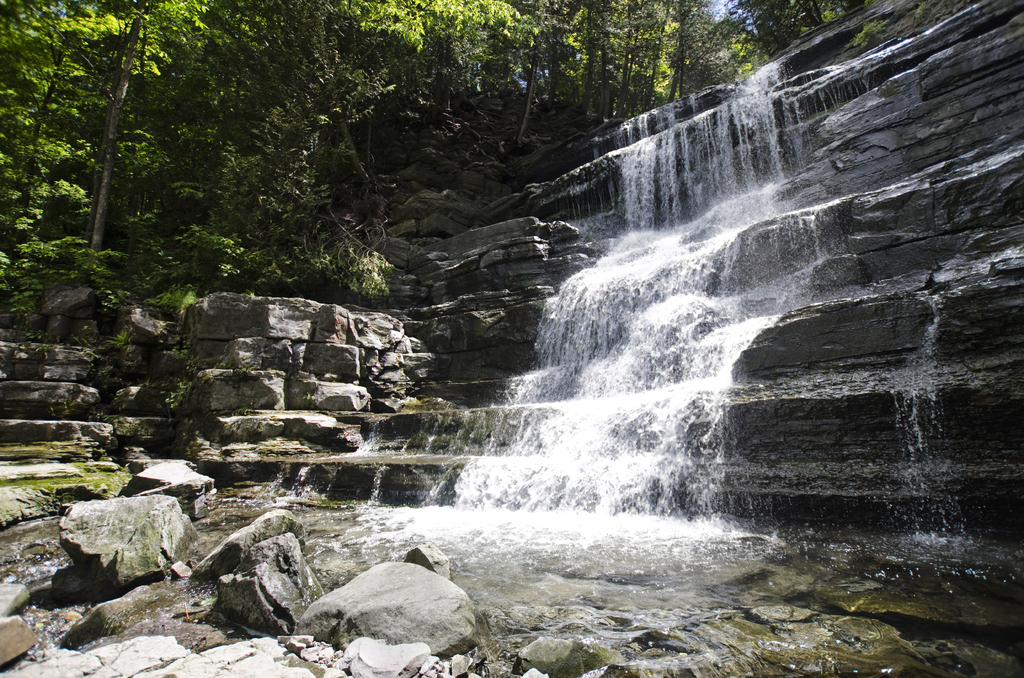Tree: (0, 0, 431, 269), (427, 0, 841, 144)
